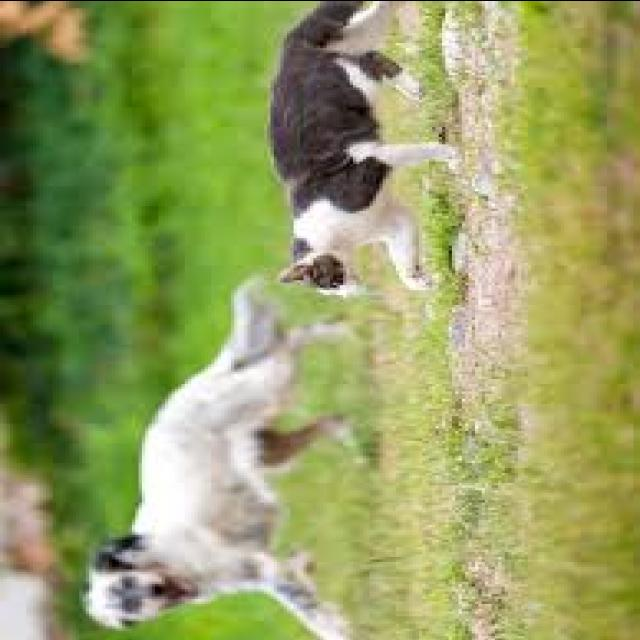cat: (270, 0, 472, 299)
dog: (73, 279, 371, 640)
